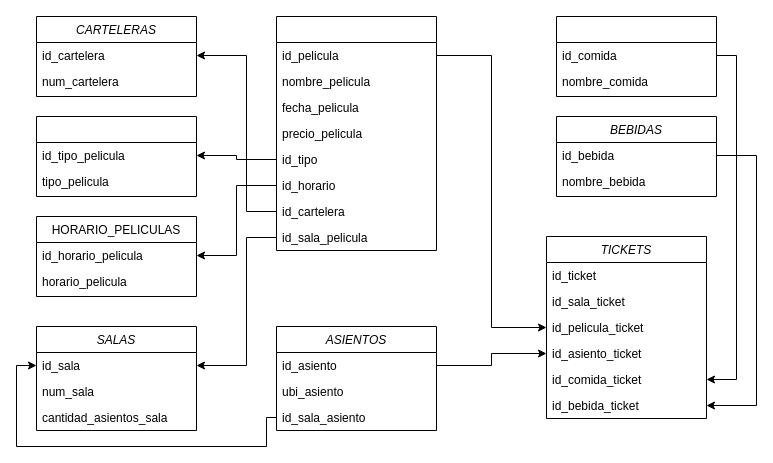
This 773x463 diagram has some shape labels left out. The box of each missing label's shape, as (x1, y1, x2, y2) in pixels:
COMIDAS: (556, 16, 716, 96)
PELICULAS: (276, 16, 436, 250)
TIPO_PELICULAS: (36, 116, 196, 196)
